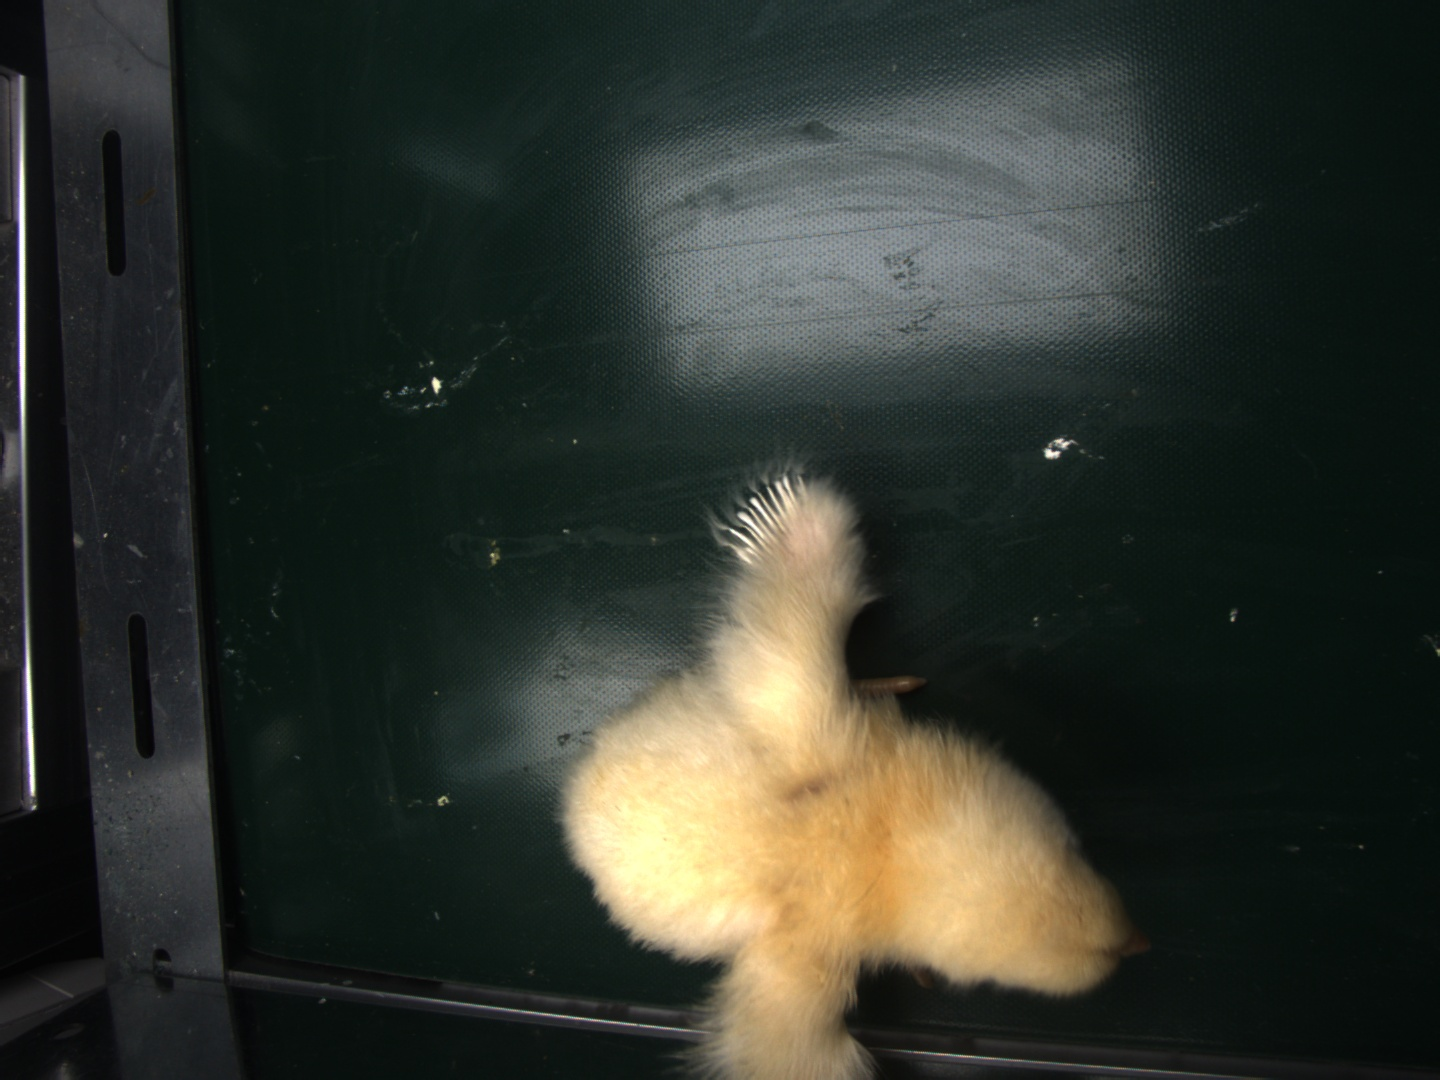male: (734, 479, 808, 562)
